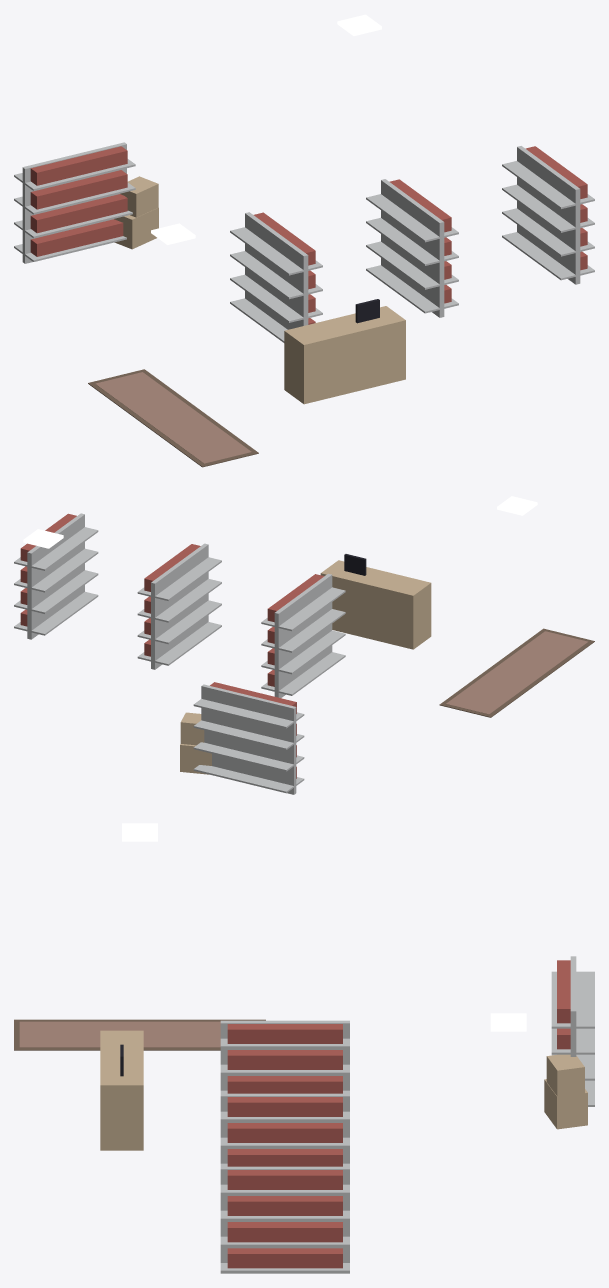
Rendered from fine-s0.glb.
3 renders of one model, top to bottom at view 1: azimuth 30°, elevation 25°; view 2: azimuth 150°, elevation 25°; view 3: azimuth 270°, elevation 25°, orthographic. The views are drawn at different scales.
Visible parts, largest first — view 1: shelving.000, shop-counter.000, shelf.001, shelf.002, shelf.000, soft-s0, cardboard-box.000, ceiling-lamp.000, ceiling-lamp.001; view 2: shelving.000, shelf.000, shelf.001, shop-counter.000, shelf.002, soft-s0, cardboard-box.000, ceiling-lamp.001, ceiling-lamp.000; view 3: shelf.002, shelf.000, shelf.001, soft-s0, shop-counter.000, shelving.000, cardboard-box.000, ceiling-lamp.001, ceiling-lamp.000.
Boxes of the visible parts, left/top/right/bottom form: shelving.000: left=14, top=142, right=135, bottom=263; shop-counter.000: left=284, top=299, right=405, bottom=404; shelf.001: left=366, top=179, right=458, bottom=317; shelf.002: left=502, top=146, right=594, bottom=284; shelf.000: left=230, top=212, right=322, bottom=342; soft-s0: left=88, top=369, right=258, bottom=467; cardboard-box.000: left=114, top=176, right=158, bottom=249; ceiling-lamp.000: left=151, top=223, right=195, bottom=244; ceiling-lamp.001: left=337, top=14, right=381, bottom=35; shelving.000: left=193, top=682, right=304, bottom=794; shelf.000: left=261, top=573, right=345, bottom=697; shelf.001: left=137, top=543, right=221, bottom=669; shop-counter.000: left=320, top=554, right=431, bottom=649; shelf.002: left=14, top=513, right=98, bottom=639; soft-s0: left=439, top=628, right=594, bottom=717; cardboard-box.000: left=180, top=712, right=211, bottom=774; ceiling-lamp.001: left=23, top=529, right=63, bottom=548; ceiling-lamp.000: left=497, top=496, right=537, bottom=515; shelf.002: left=220, top=1166, right=349, bottom=1273; shelf.000: left=220, top=1020, right=349, bottom=1093; shelf.001: left=220, top=1093, right=349, bottom=1166; soft-s0: left=14, top=1019, right=265, bottom=1050; shop-counter.000: left=100, top=1030, right=143, bottom=1150; shelving.000: left=551, top=956, right=594, bottom=1106; cardboard-box.000: left=544, top=1054, right=587, bottom=1129; ceiling-lamp.001: left=490, top=1013, right=526, bottom=1031; ceiling-lamp.000: left=122, top=823, right=157, bottom=841.
Size of the model in its own units: 8.59 by 3.14 by 8.07.
